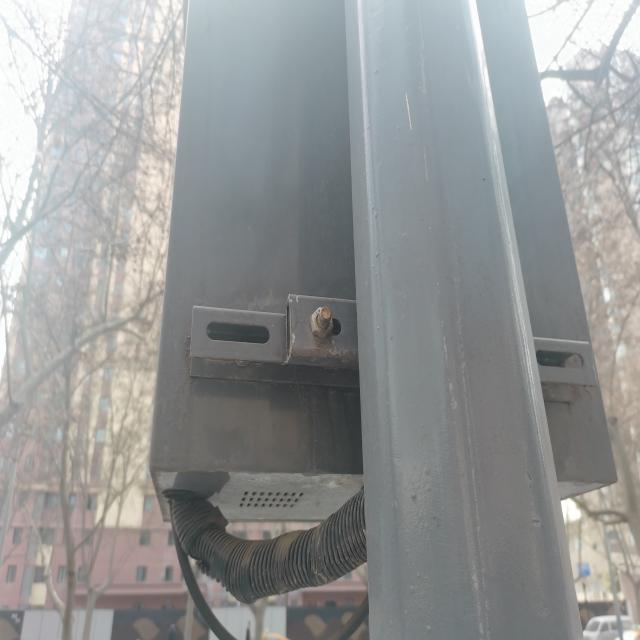bolt nut: (309, 306, 335, 341)
